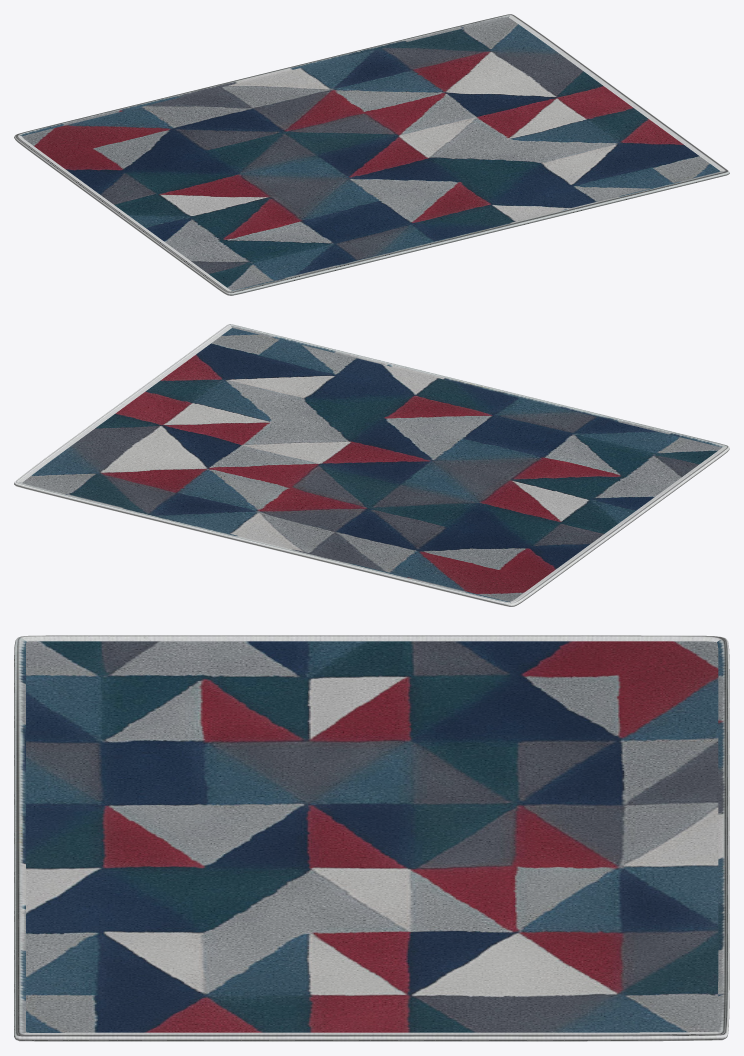
Rendered from henrik wood.FBX.
3 views of the same model, one above another, from view 1: azimuth 30°, elevation 25°; view 2: azimuth 150°, elevation 25°; view 3: azimuth 270°, elevation 25° (orthographic). The views are drawn at different scales.
Parts seen in each view (by area): view 1: Henrik_Hand_Tufted_Wool_Rug_Grey_and_RedMulti_120x180cm; view 2: Henrik_Hand_Tufted_Wool_Rug_Grey_and_RedMulti_120x180cm; view 3: Henrik_Hand_Tufted_Wool_Rug_Grey_and_RedMulti_120x180cm.
Boxes of the visible parts, x1,y1,x2,y2 form: Henrik_Hand_Tufted_Wool_Rug_Grey_and_RedMulti_120x180cm: (14, 14, 729, 295); Henrik_Hand_Tufted_Wool_Rug_Grey_and_RedMulti_120x180cm: (14, 324, 729, 606); Henrik_Hand_Tufted_Wool_Rug_Grey_and_RedMulti_120x180cm: (14, 635, 729, 1041).
Bounding box in the file's own units: 90.99 × 0.7197 × 68.38.
